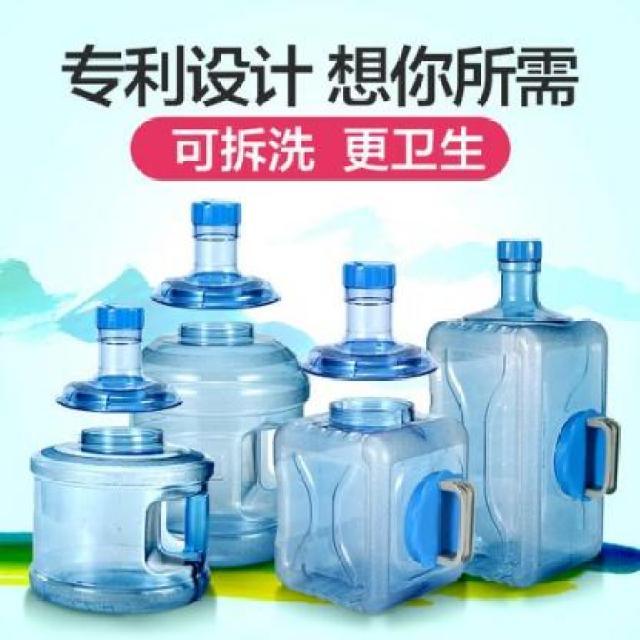coolerbottle: (270, 257, 476, 616), (28, 303, 219, 618)
